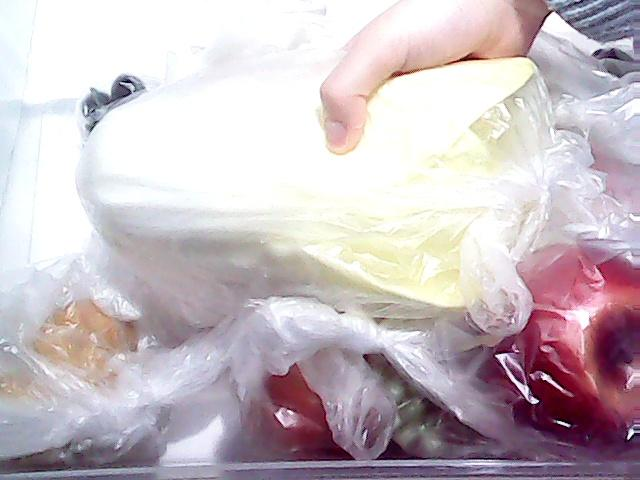apple: (498, 236, 640, 436)
carrot: (550, 54, 640, 234)
grape: (376, 366, 456, 454), (80, 65, 144, 115)
napa cabbage: (71, 39, 537, 324)
peach: (242, 304, 394, 460)
potato: (0, 300, 146, 428)
